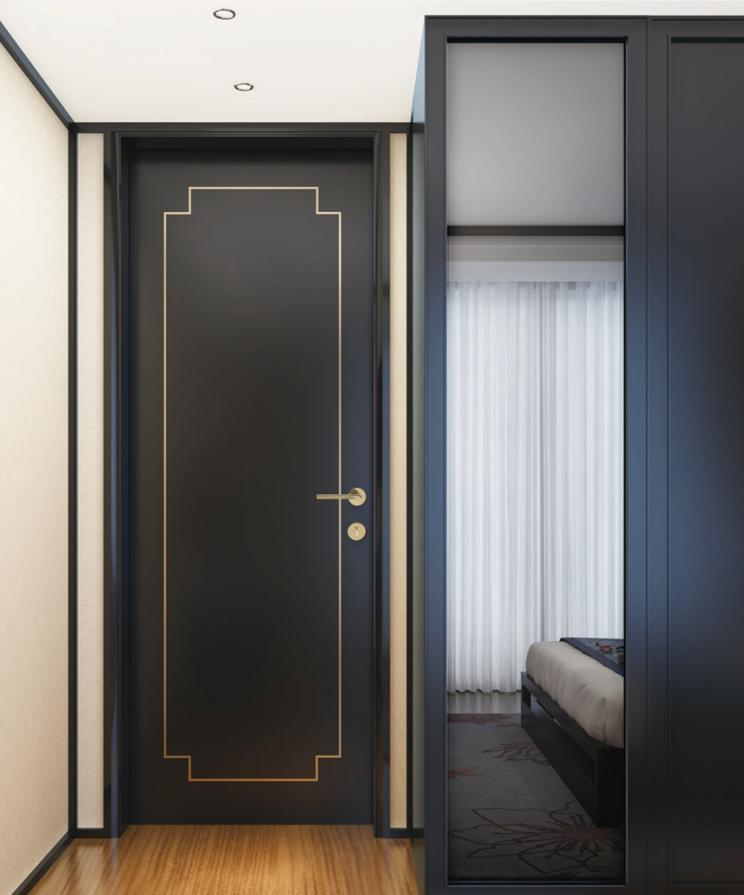door: (125, 134, 384, 831)
